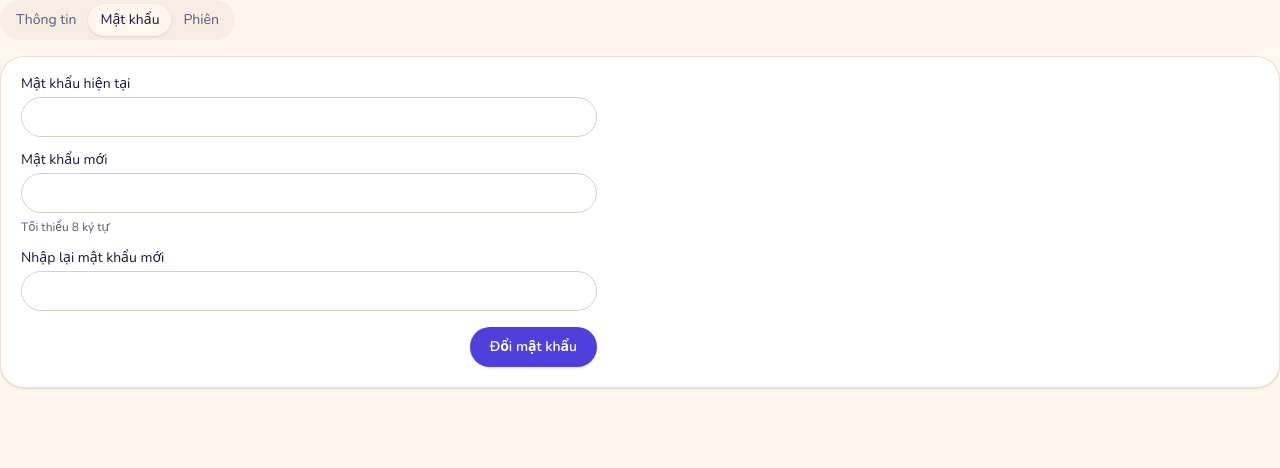
Test: ProfilePage — mật khẩu › nhập lại không khớp / quá ngắn → báo trong form, không gọi API
This screenshot has width=1280, height=468.
In the password field with test id "pw-current": (309, 117) [21,97,597,137], type "old-pass-1"
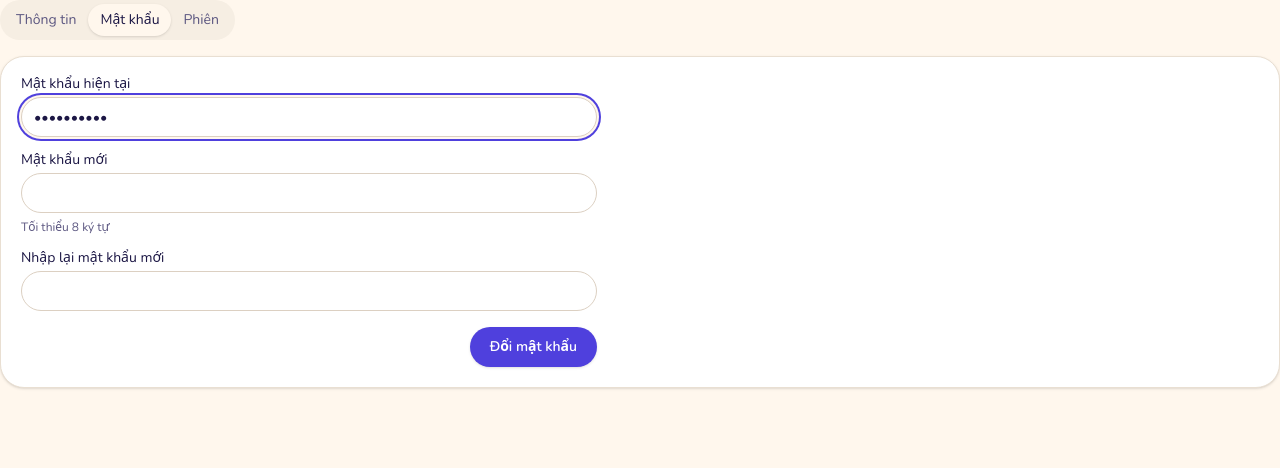
In the password field with test id "pw-new": (309, 193) [21,173,597,213], type "new-pass-12"
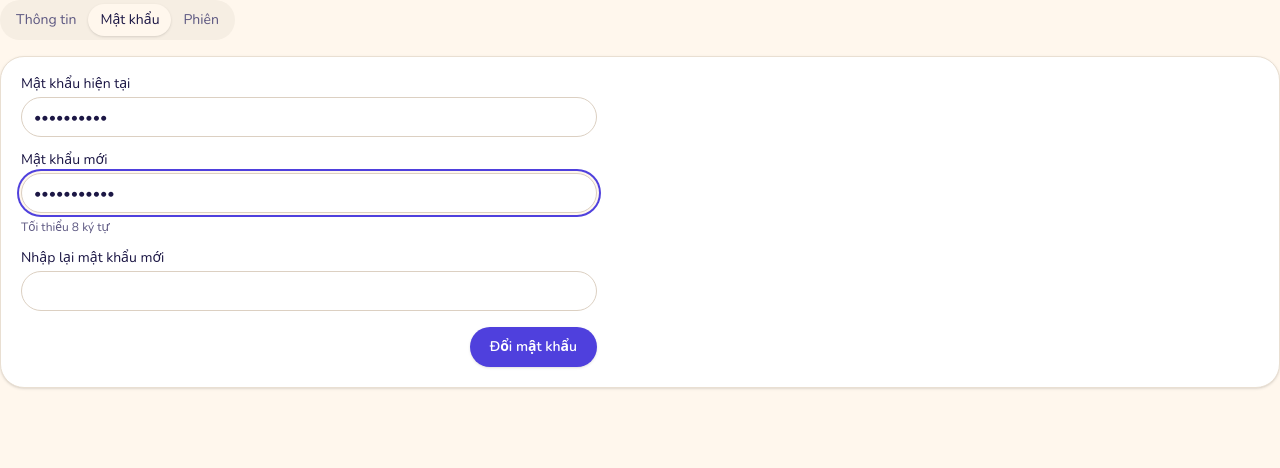
In the password field with test id "pw-confirm": (309, 291) [21,271,597,311], type "khac-han-1"
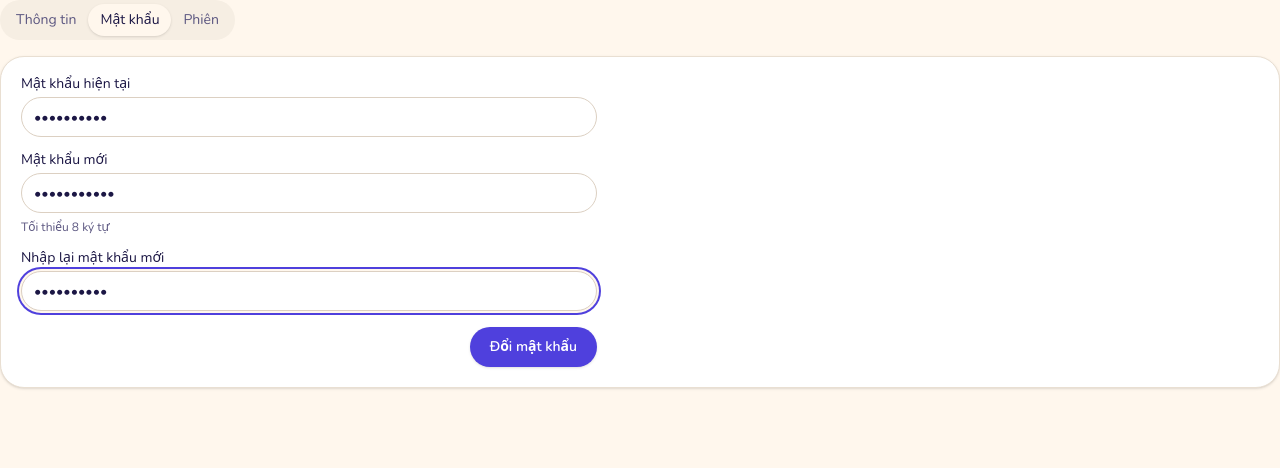
Click the button with test id "change-password": (533, 347) [470,327,597,367]
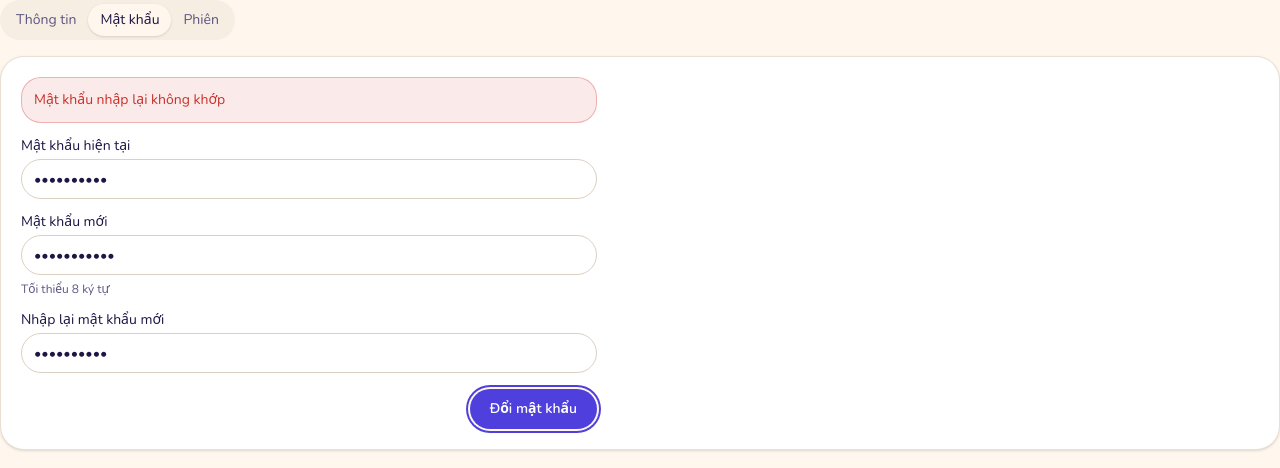
Check: the message reads "Mật khẩu nhập lại không khớp", box [34,90,225,109]
